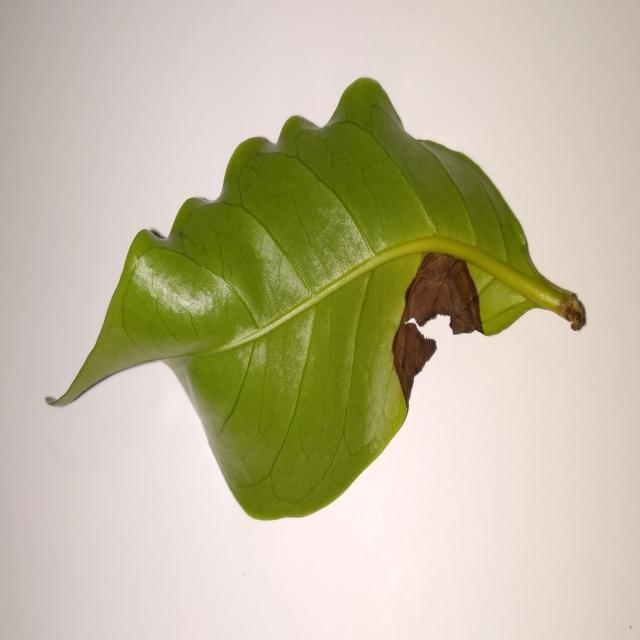Enfermedad-Antracnosis: (44, 78, 588, 523)
